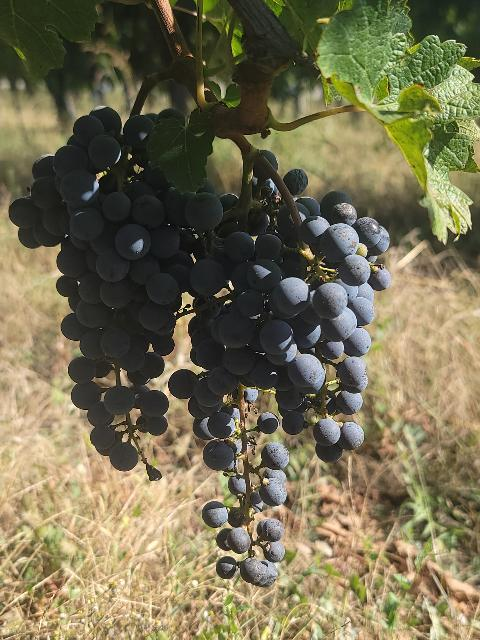grapes: (169, 165, 391, 584), (9, 106, 226, 480)
